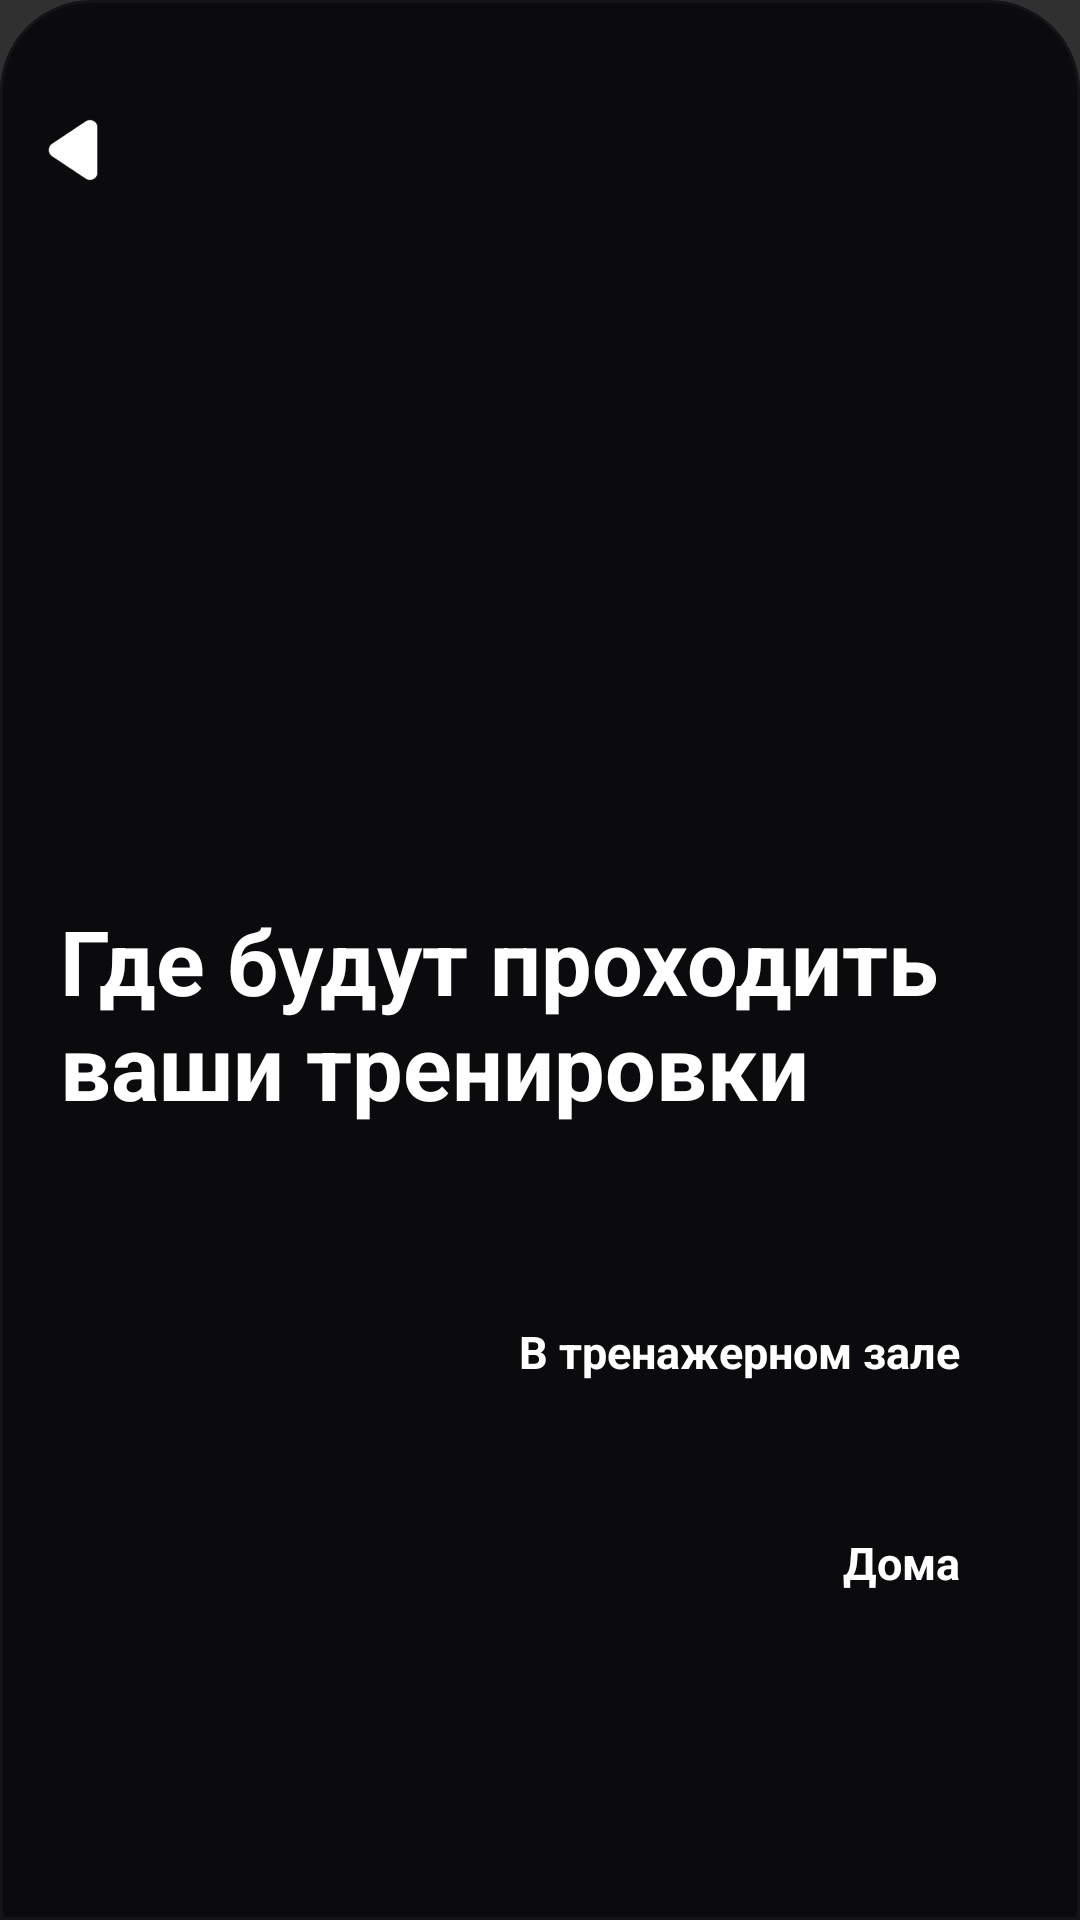

Where icons sit on this 1080px x 1920px app screen, as (x1, y1, x2, y2):
back: (48, 120, 98, 180)
